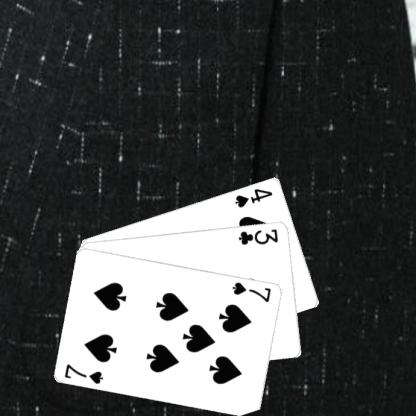3C: (236, 225, 280, 246)
4S: (232, 185, 274, 209)
7S: (230, 279, 273, 303), (62, 361, 105, 385)
